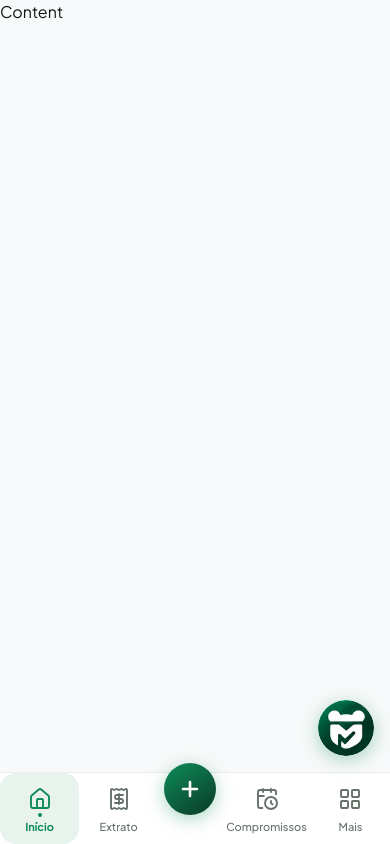
Test: AppShell › sheet navigation › opens the preselected expense sheet from the FAB quick actions
The image size is (390, 844).
Click the button named "Nova transação". click: [190, 789]
box: [164,763,216,815]
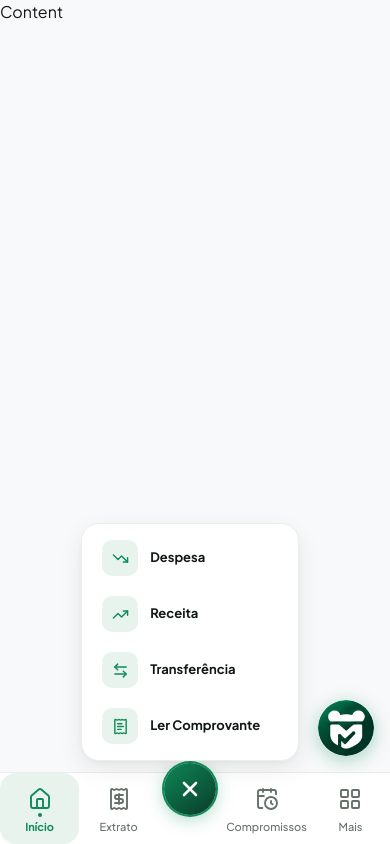
Click the button "Despesa". click: [190, 558]
box: [90,532,290,584]
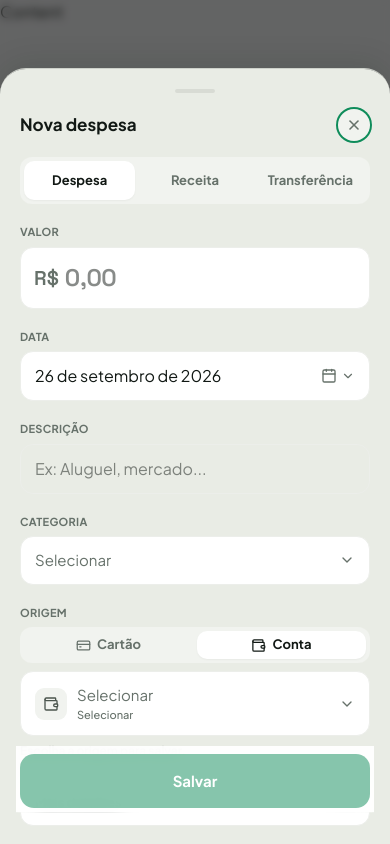
Now the heading "Nova despesa" is shown, box [20,113,137,135]
